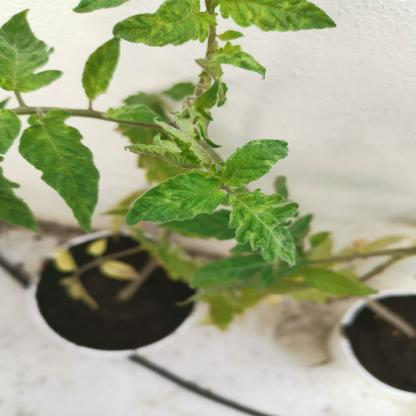T_L_R: (126, 172, 227, 227), (229, 189, 299, 266), (113, 1, 219, 48), (211, 1, 338, 33), (218, 140, 289, 188), (208, 43, 267, 80), (192, 79, 220, 122)
